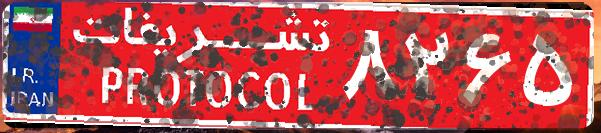2: (400, 20, 460, 115)
5: (520, 20, 580, 115)
6: (460, 20, 520, 115)
8: (340, 20, 400, 115)
تشریفات: (60, 8, 340, 125)
